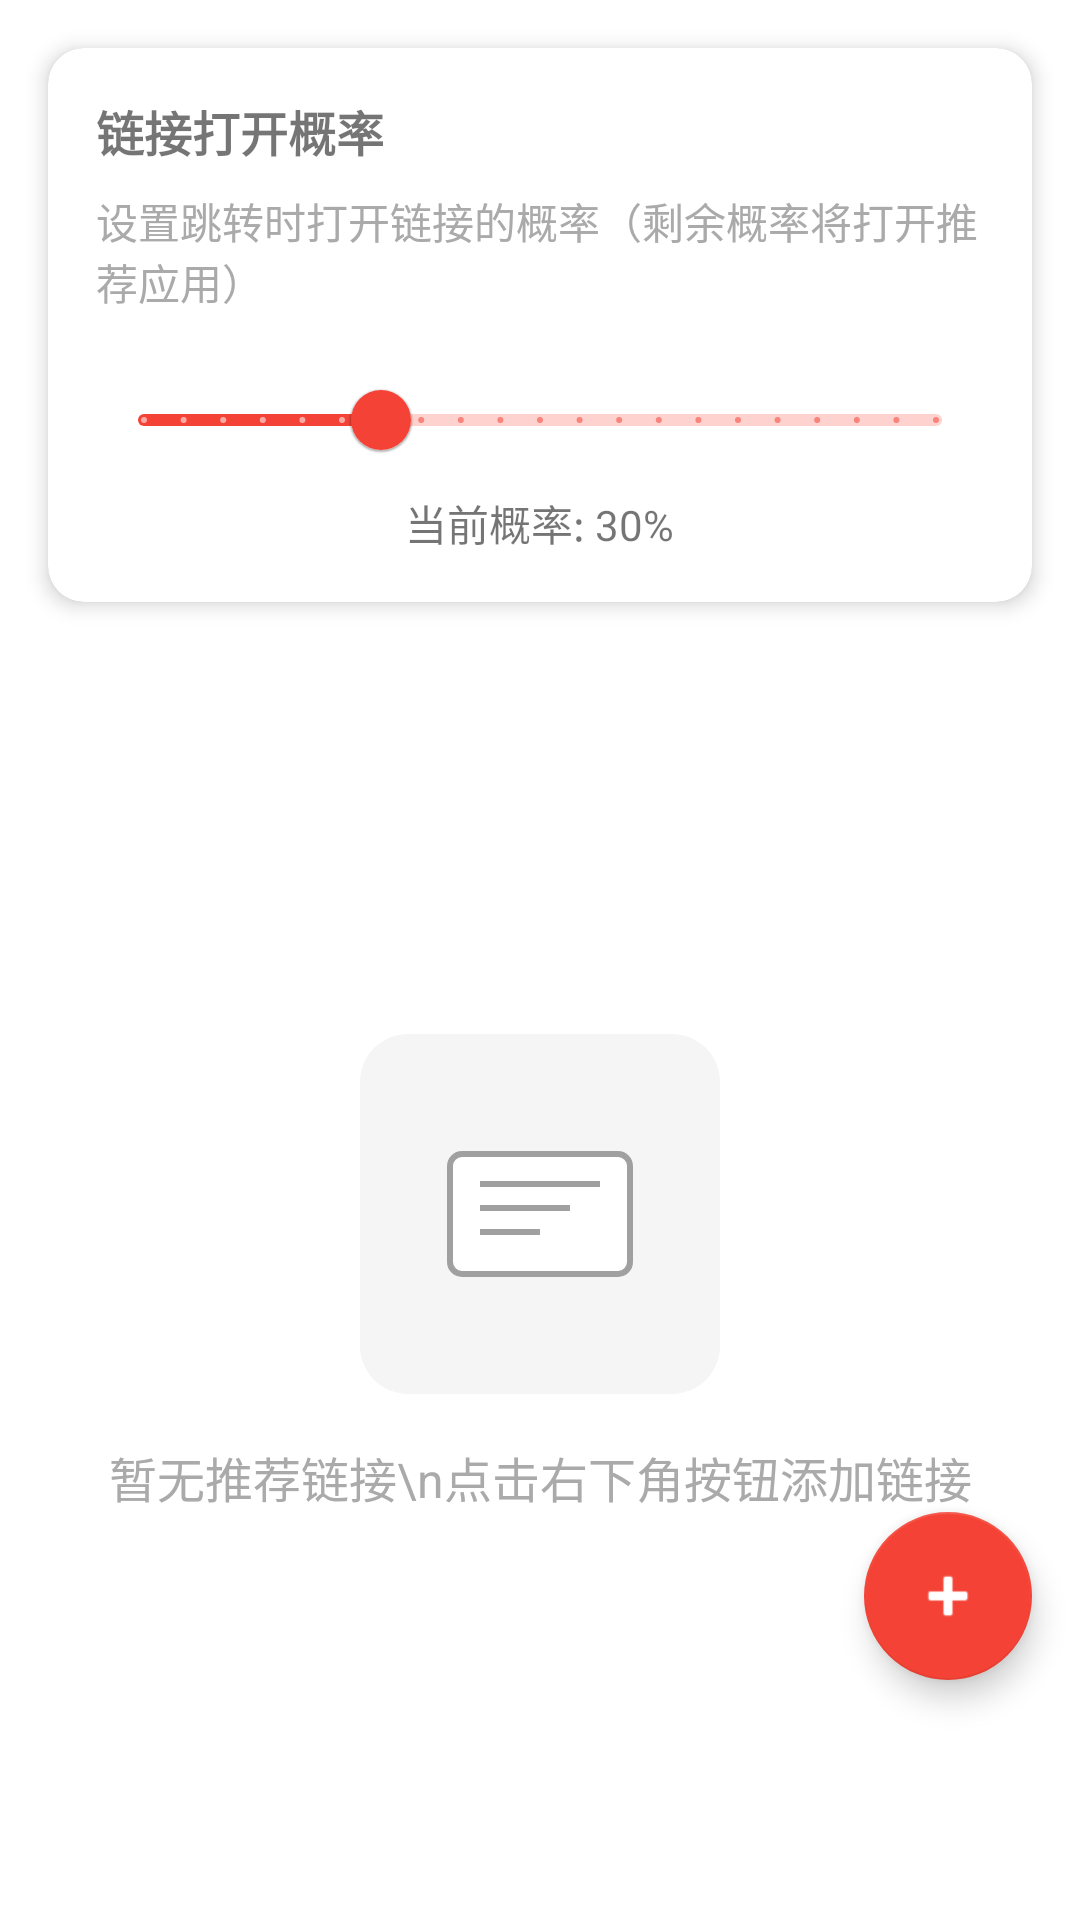

Icons on this 1080*1920 Android screen, each with the point to tap as point (x, y):
empty: point (540, 1214)
